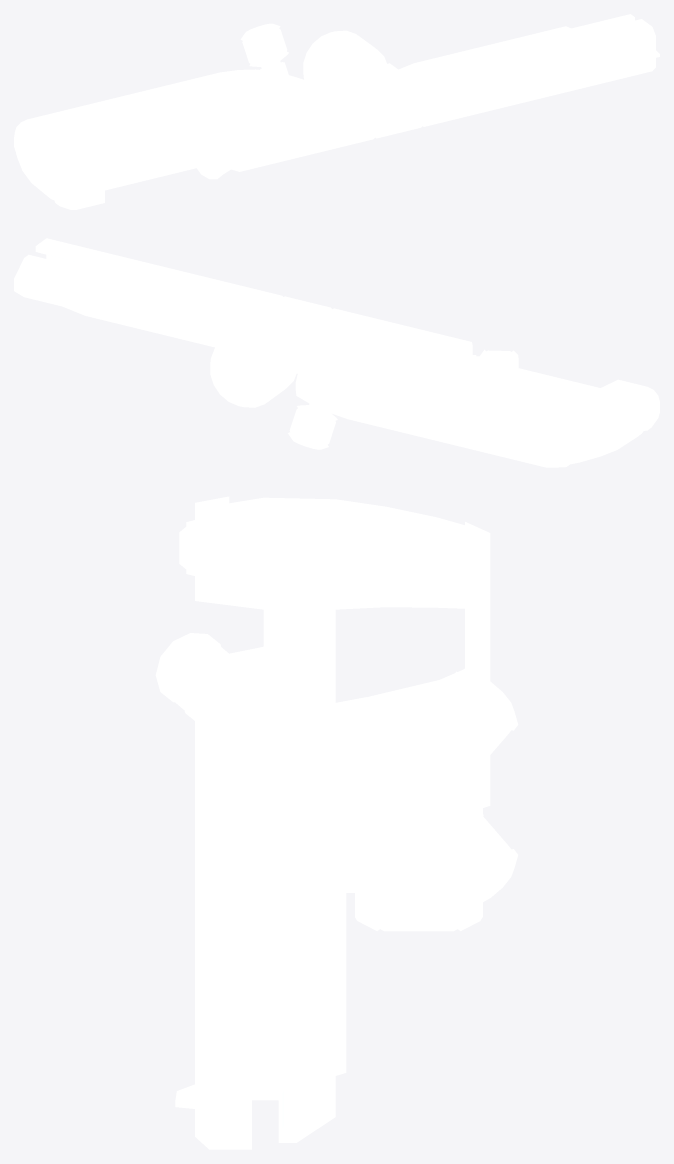
Rendered from Energy_Lancer.glb.
3 renders of one model, top to bottom at view 1: azimuth 30°, elevation 25°; view 2: azimuth 150°, elevation 25°; view 3: azimuth 270°, elevation 25°, orthographic. The views are drawn at different scales.
Parts seen in each view (by area): view 1: Energy_Lancer; view 2: Energy_Lancer; view 3: Energy_Lancer.
Boxes of the visible parts, box(x1,y1,x2,y2) form: Energy_Lancer: box(14, 14, 659, 209); Energy_Lancer: box(14, 238, 659, 467); Energy_Lancer: box(155, 496, 518, 1149).
Size of the model in its own units: 0.4444 by 0.0803 by 0.1175.
